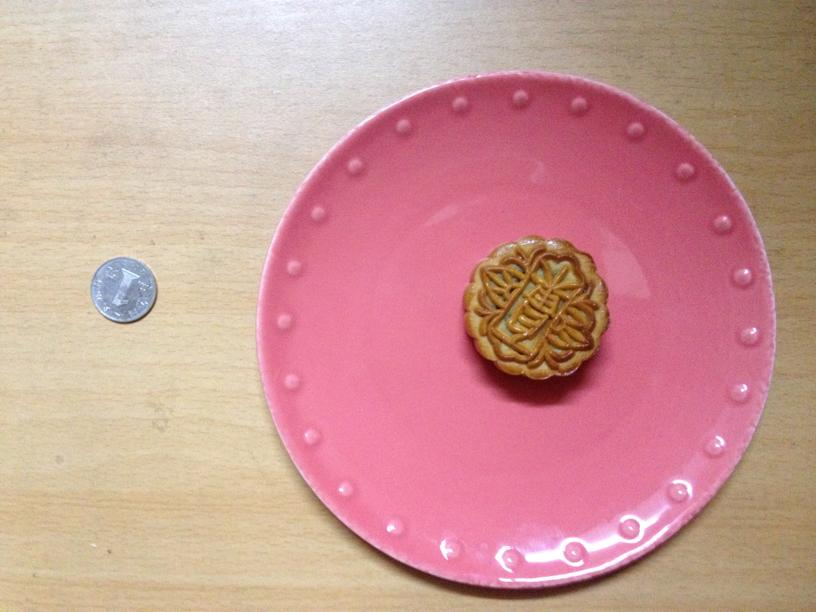coin: (86, 256, 159, 323)
mooncake: (463, 232, 608, 382)
